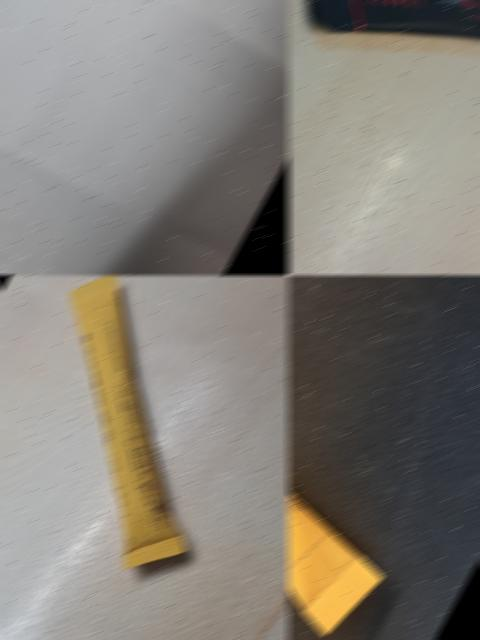KANU: (286, 0, 480, 125)
espresso_mini: (0, 0, 289, 152)
mix_coffee: (0, 275, 289, 613), (286, 276, 460, 640)
